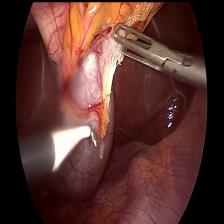Grasper: (110, 15, 178, 79)
Hook: (48, 120, 98, 174)
